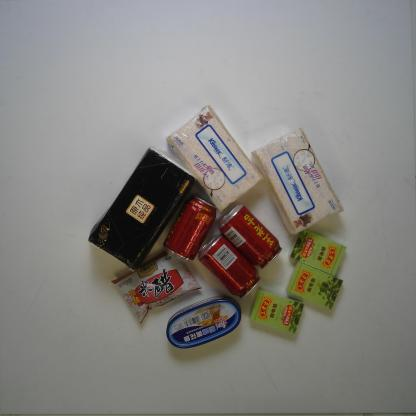Candy: (288, 228, 347, 276), (287, 261, 343, 309), (249, 288, 304, 334)
Canned Food: (166, 295, 242, 349)
Drink: (218, 204, 282, 269), (198, 234, 261, 299), (163, 194, 217, 262)
Seasoner: (111, 250, 202, 324)
Tissue: (87, 147, 197, 272), (166, 104, 264, 212), (250, 127, 344, 236)
